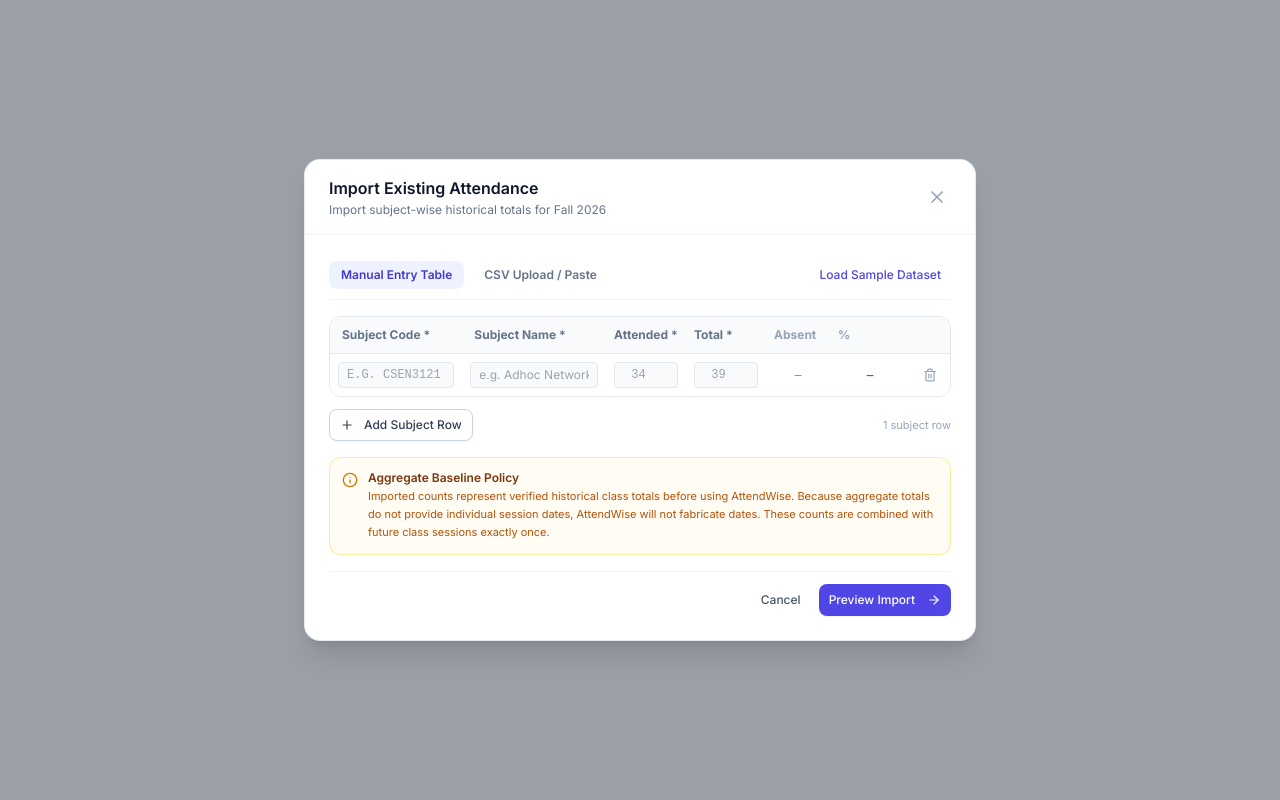
Test: Historical Attendance Import Modal › loads the sample dataset (146 present / 168 conducted = 86.90%) and previews it
The width and height of the screenshot is (1280, 800).
Note: Click "Load Sample Dataset"
Click the button "Load Sample Dataset".
click(880, 275)  # box [810,259,951,291]
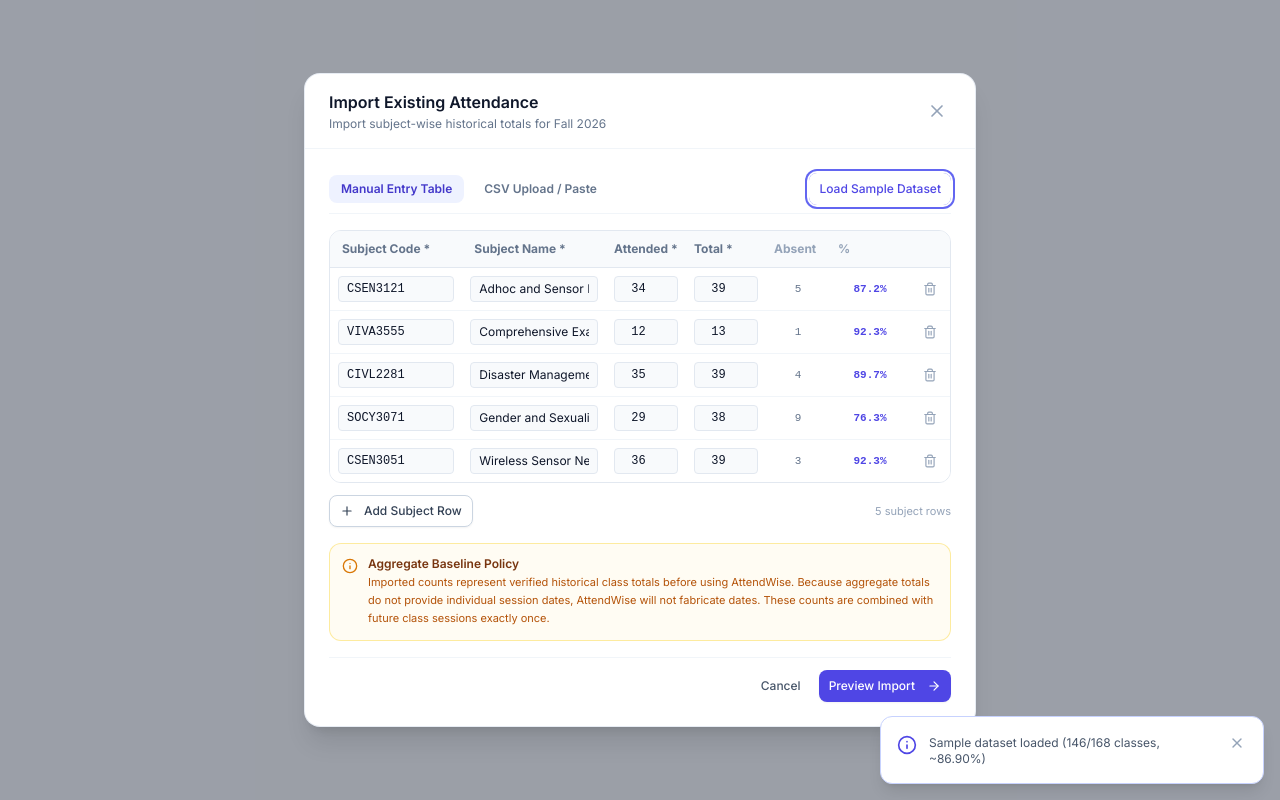
Expected: the 1st field showing "CSEN3121" is shown, [338,276,454,302]
Expected: the 2nd field showing "Adhoc and Sensor Networks" is shown, [470,276,598,302]
Expected: the number of number fields showing "39" is 3, [694,276,758,302]; [694,362,758,388]; [694,448,758,474]
Note: Click "Preview Import"
Click the button "Preview Import".
click(885, 686)  # box [819,670,951,702]
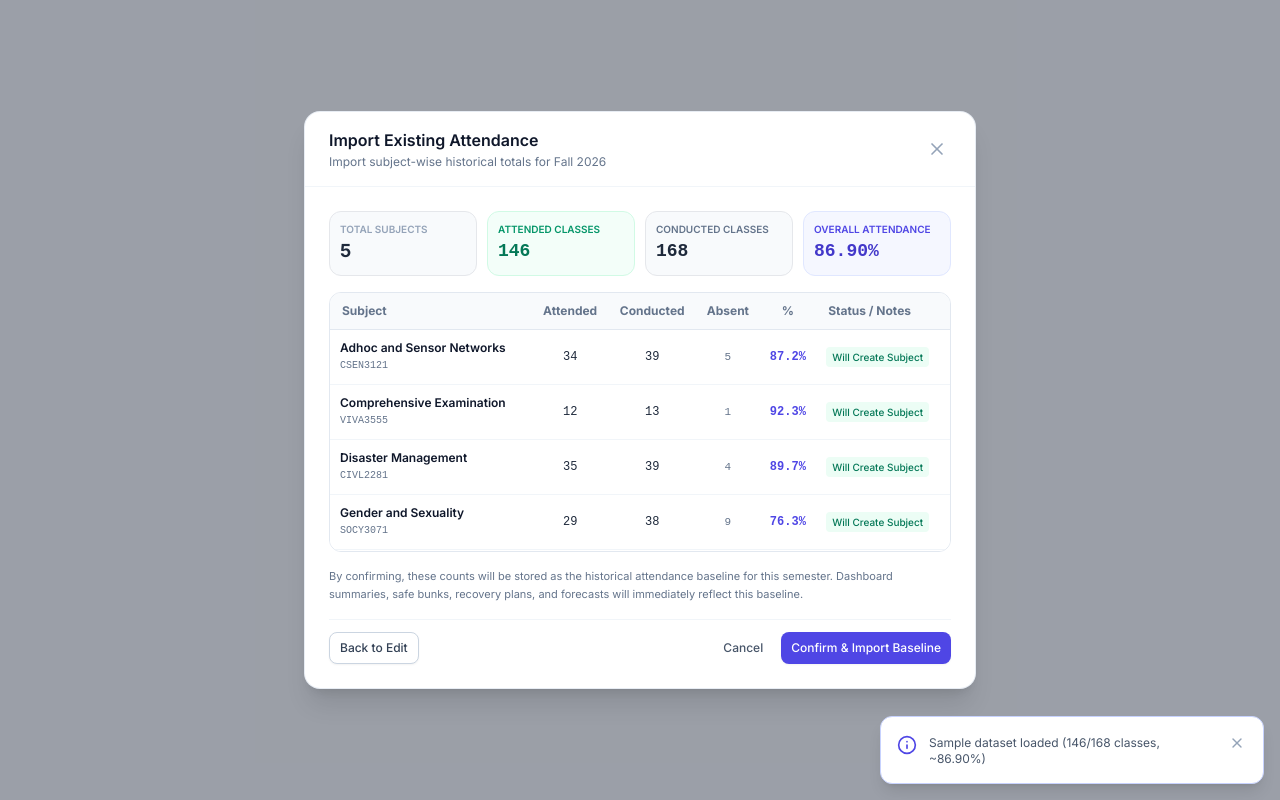
Expected: the text "Attended Classes" is shown, [498,223,600,235]
Expected: the text "146" is shown, [498,241,530,261]
Expected: the text "168" is shown, [656,241,688,261]
